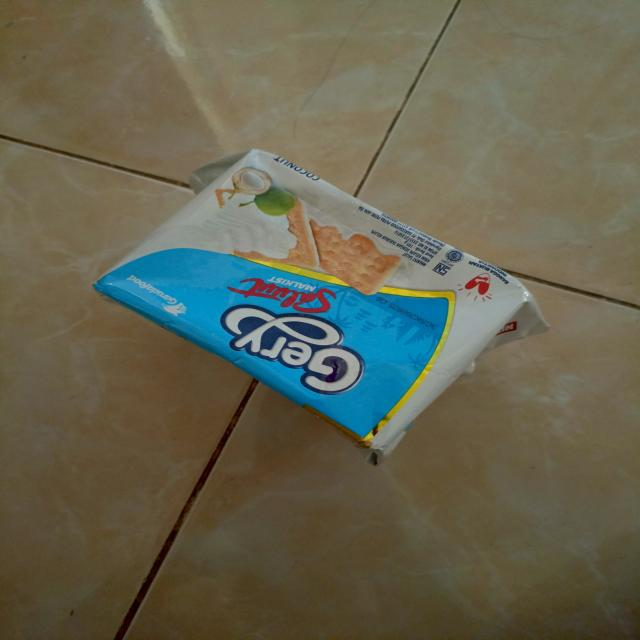gery-salut-coconut: (91, 147, 552, 465)
